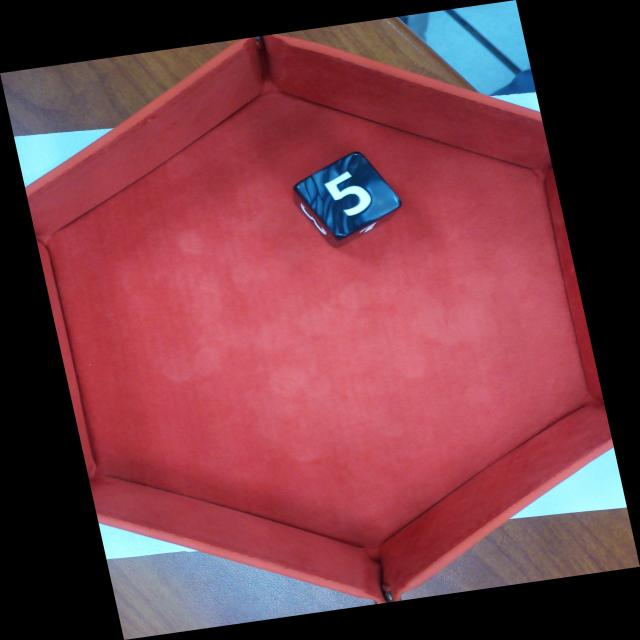dice: (297, 151, 406, 240)
